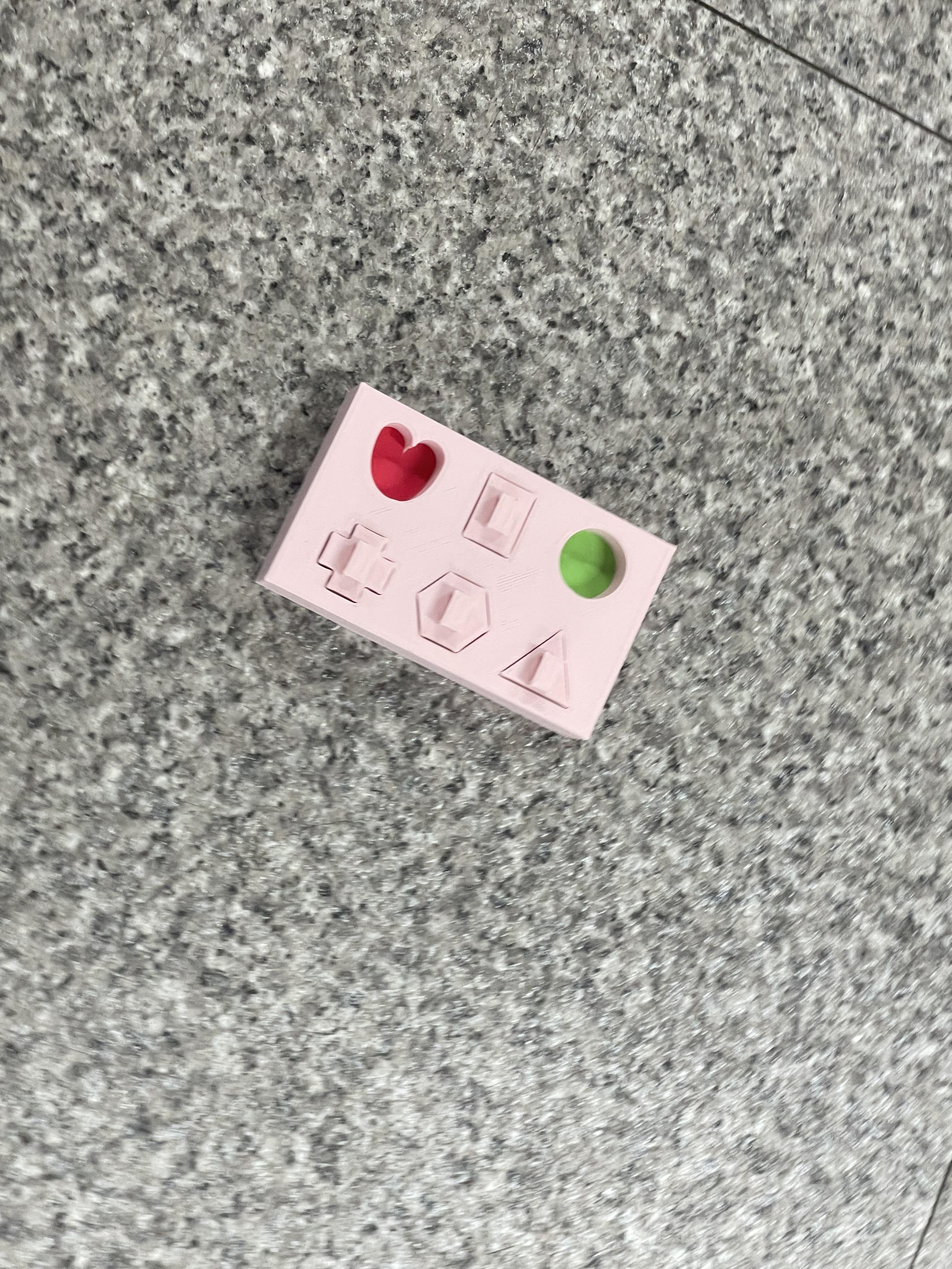unsolved: (249, 366, 687, 754)
